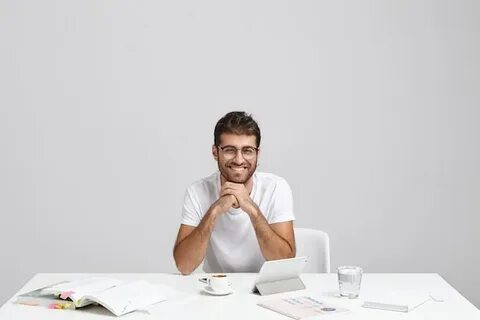awake: (172, 110, 297, 277)
